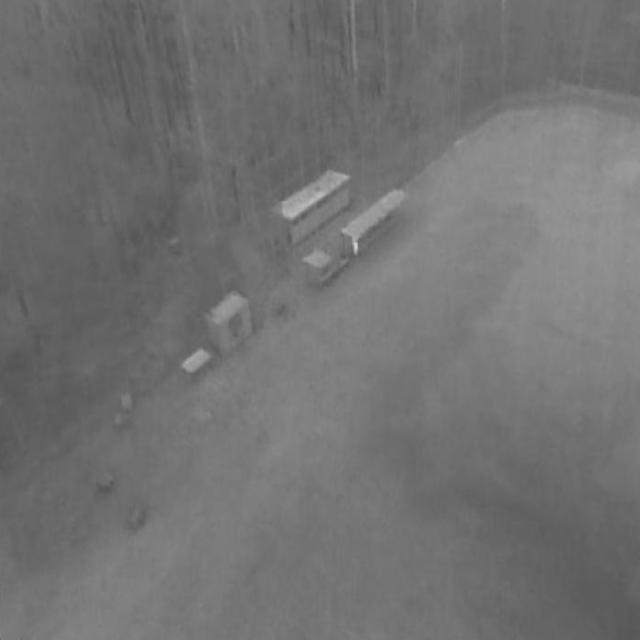person: (352, 236, 360, 255)
